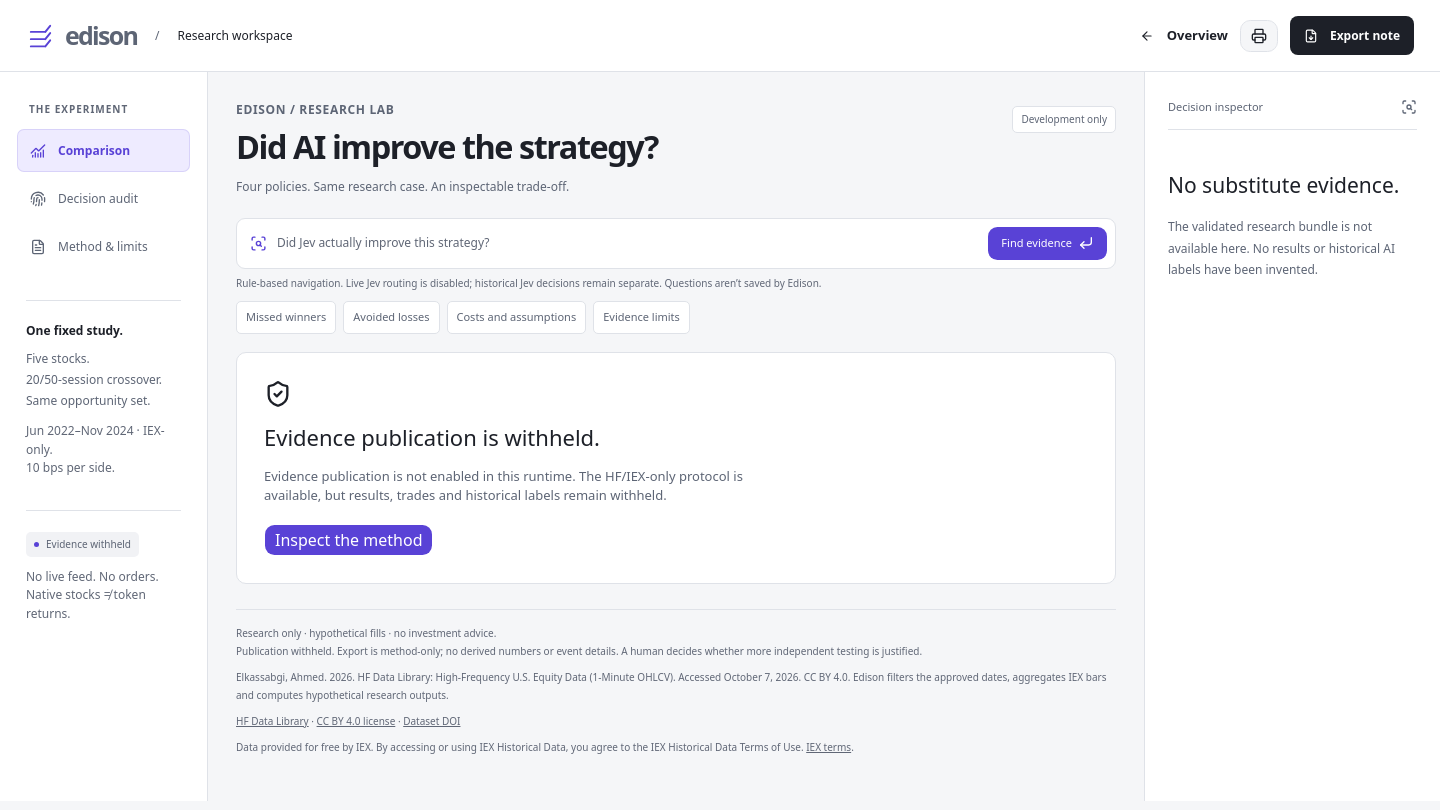
Scenario: withheld state never substitutes metrics and retains method navigation
Expected: the heading "Evidence publication is withheld." is shown, [264, 422, 600, 452]
Click the button "Inspect the method". click: click(349, 540)
box: [264, 524, 434, 556]
(page scrolled)
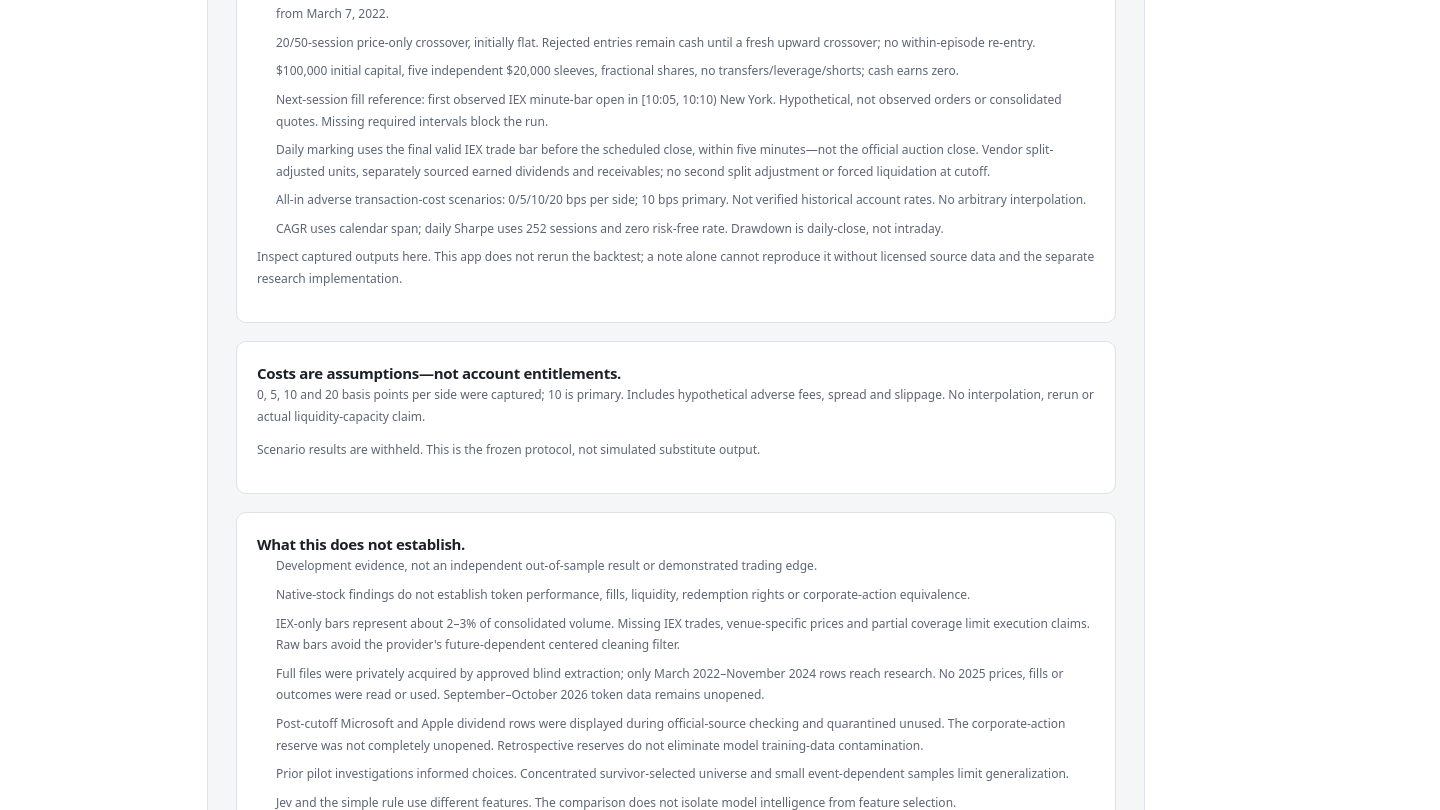
Expected: the text "Scenario results are withheld" is shown, [257, 441, 760, 458]
